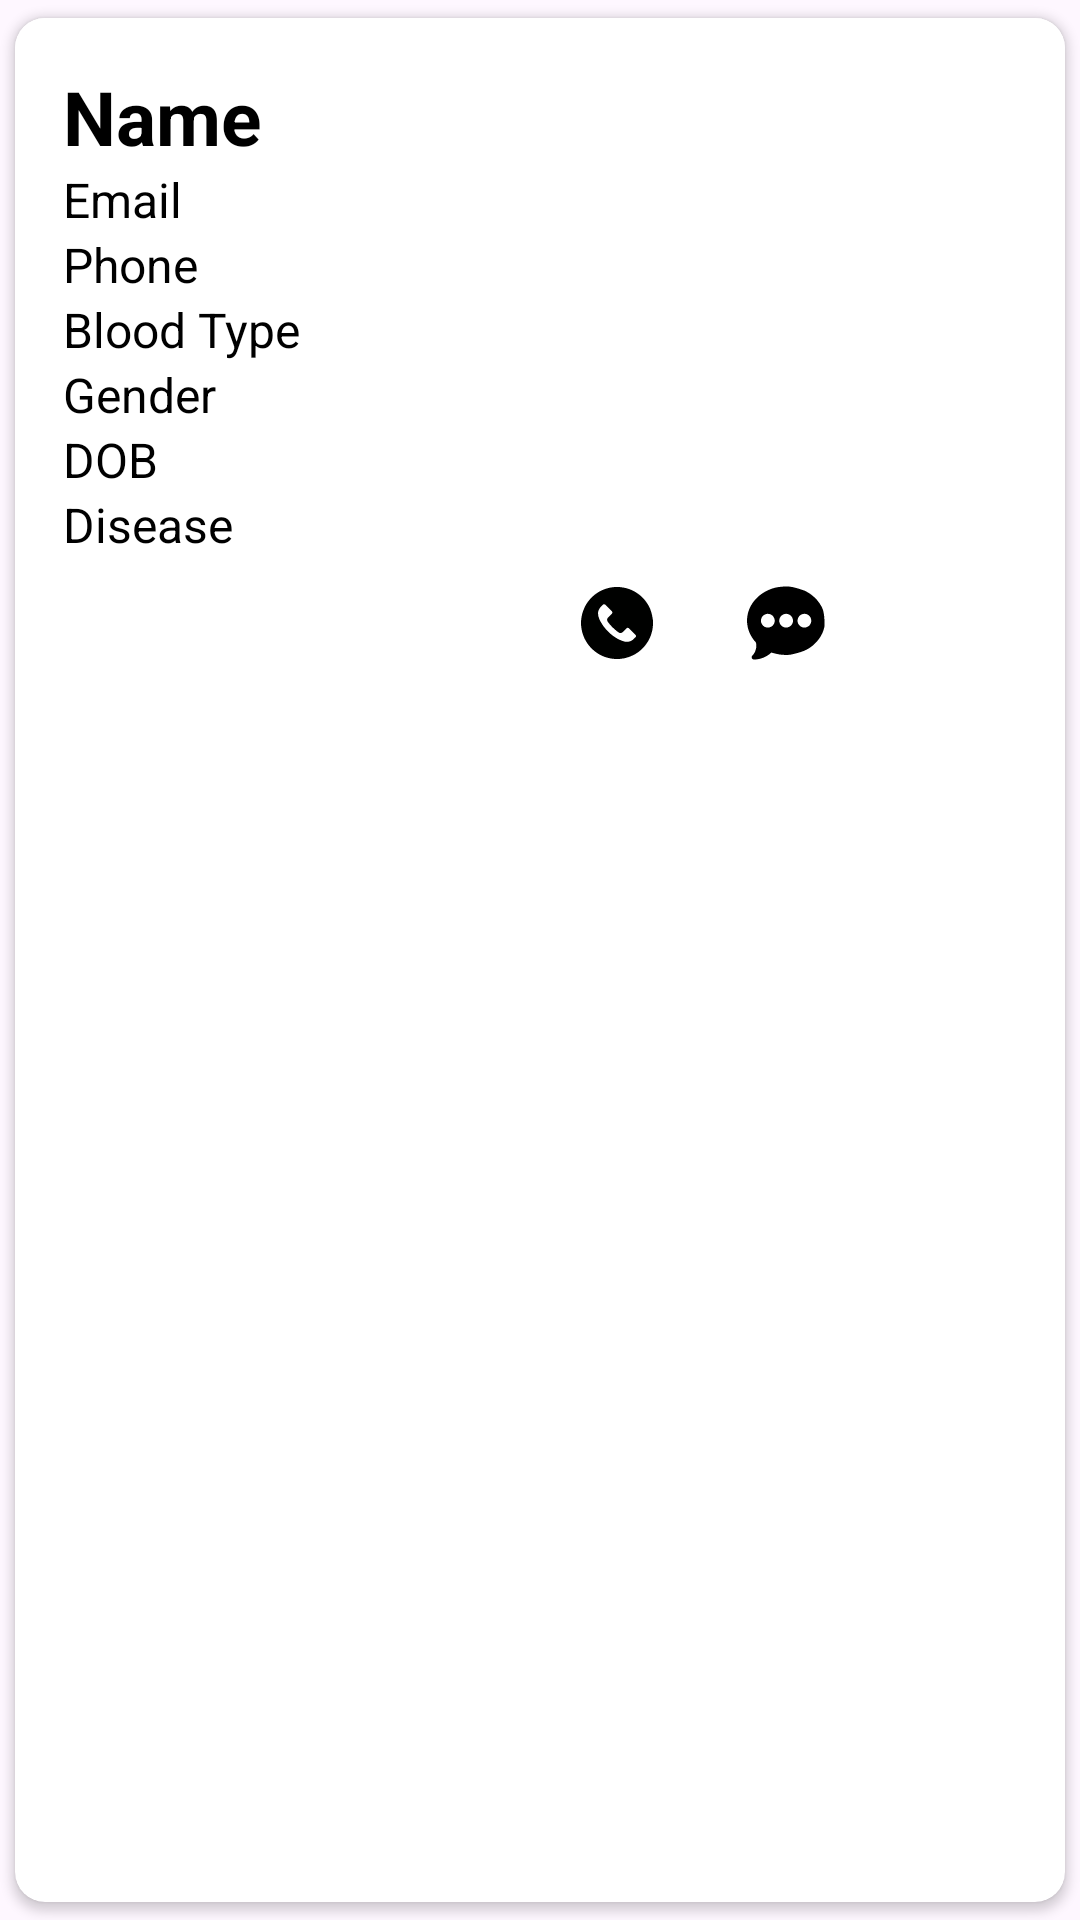

Screen size 1080 x 1920. Icon name, then its box in pixels as (x1,y1,x2,y2):
chaticon: (747,586,825,660)
phoneicon: (581,587,653,659)
